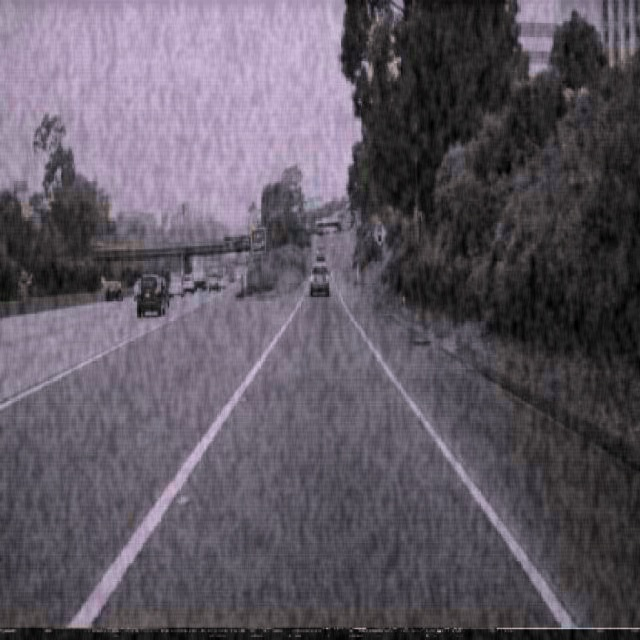signalAhead: (371, 216, 387, 248)
